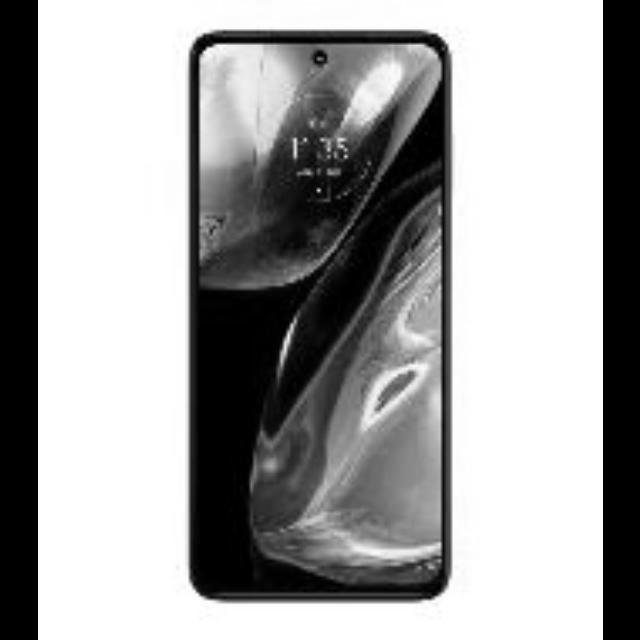fake: (186, 26, 457, 606)
